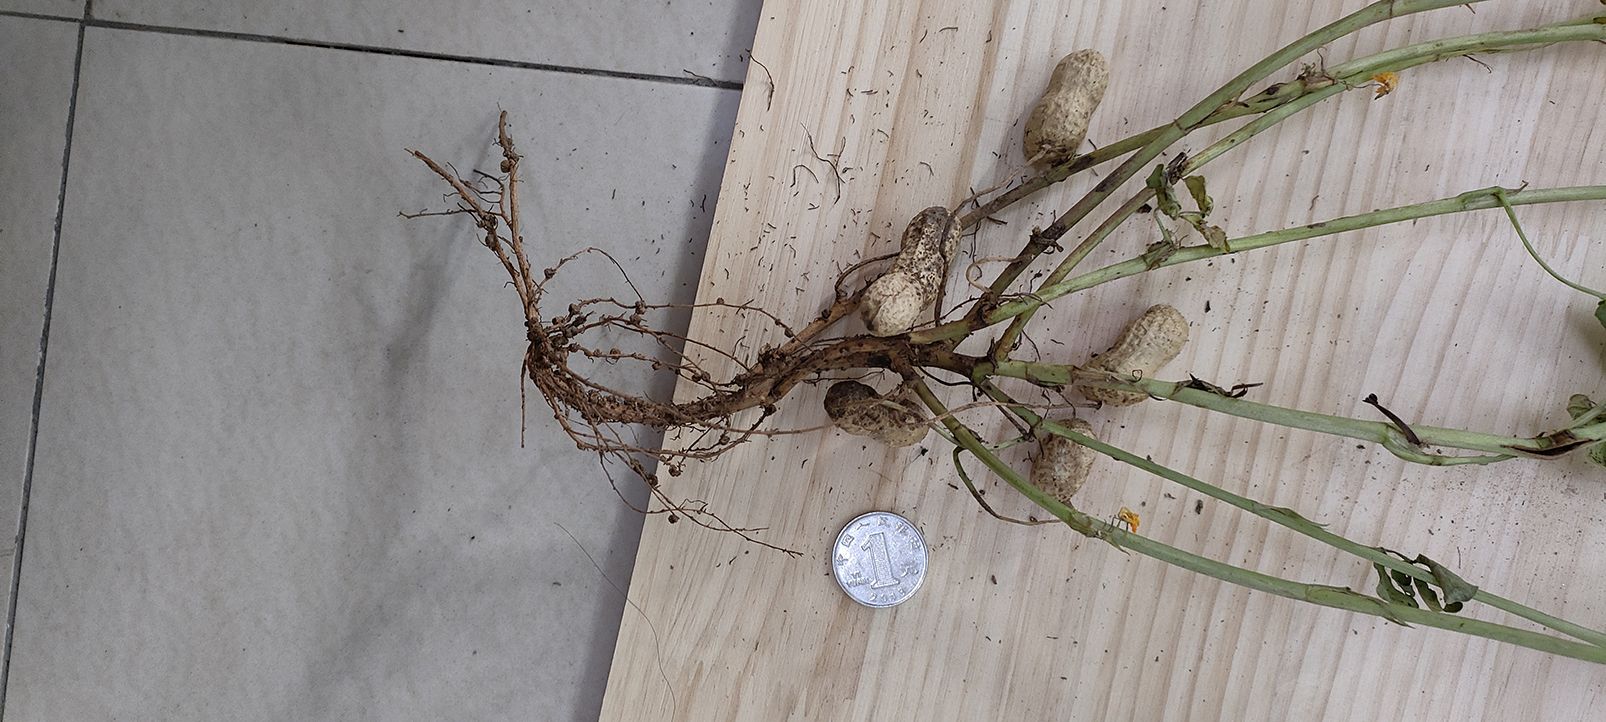h: (864, 206, 964, 335), (1080, 307, 1190, 402), (1022, 49, 1108, 168), (1030, 422, 1096, 501)
l: (825, 382, 927, 442)
